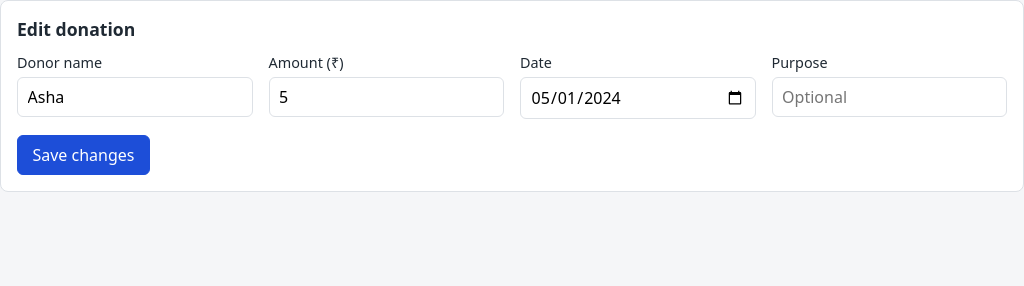
DonationForm › shows server errors
The width and height of the screenshot is (1024, 286).
Click the button "Save changes" at {"x": 83, "y": 155}, box [17,135,150,175]
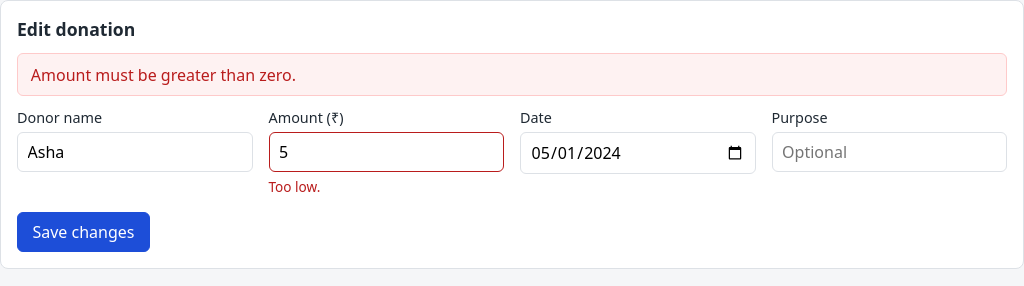
Expected: the message reads "Amount must be greater than zero.", [31,64,296,86]
Expected: the text "Too low." is shown, [268,177,320,196]
